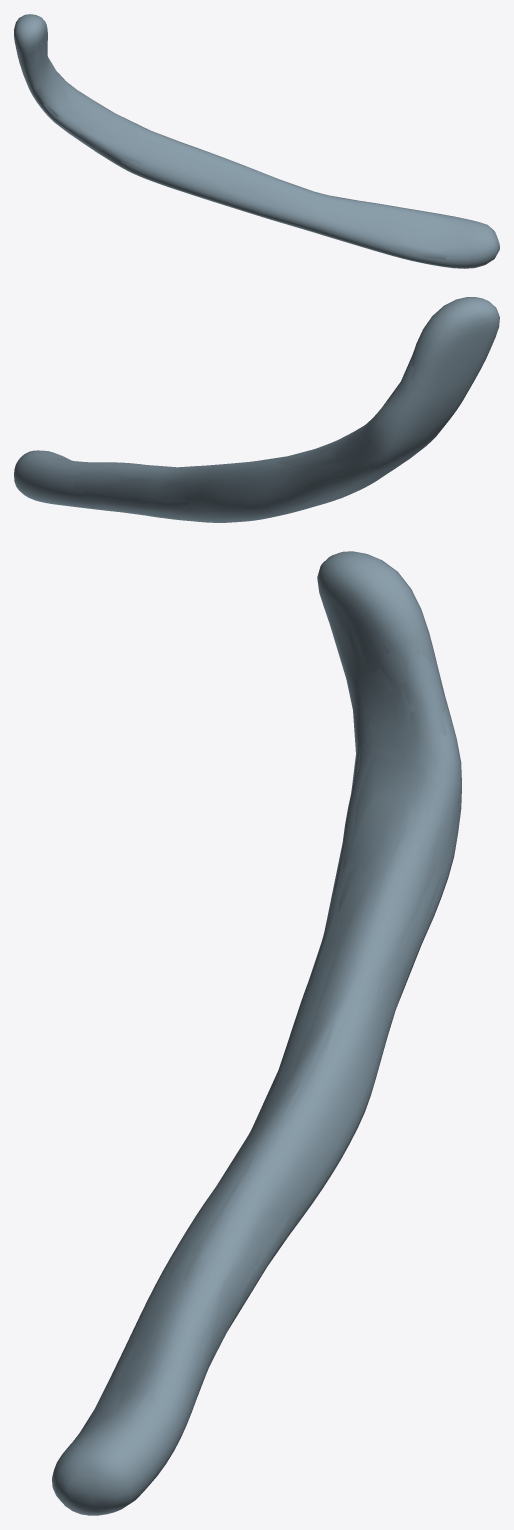
3 views of the same model, one above another, from view 1: azimuth 30°, elevation 25°; view 2: azimuth 150°, elevation 25°; view 3: azimuth 270°, elevation 25° (orthographic). The views are drawn at different scales.
Parts seen in each view (by area): view 1: CC R06, CC R06 high, CC R06 low; view 2: CC R06 high, CC R06, CC R06 low; view 3: CC R06, CC R06 high, CC R06 low.
Boxes of the visible parts, x1,y1,x2,y2 form: CC R06: [14, 14, 499, 268]; CC R06 high: [14, 14, 499, 268]; CC R06 low: [34, 45, 456, 259]; CC R06 high: [14, 297, 497, 522]; CC R06: [14, 297, 499, 521]; CC R06 low: [51, 354, 413, 518]; CC R06: [52, 551, 461, 1515]; CC R06 high: [53, 551, 461, 1515]; CC R06 low: [80, 611, 447, 1431].
Size of the model in its own units: 13.38 by 8.88 by 5.68.
